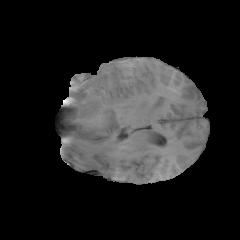glioma: (69, 64, 121, 137)
